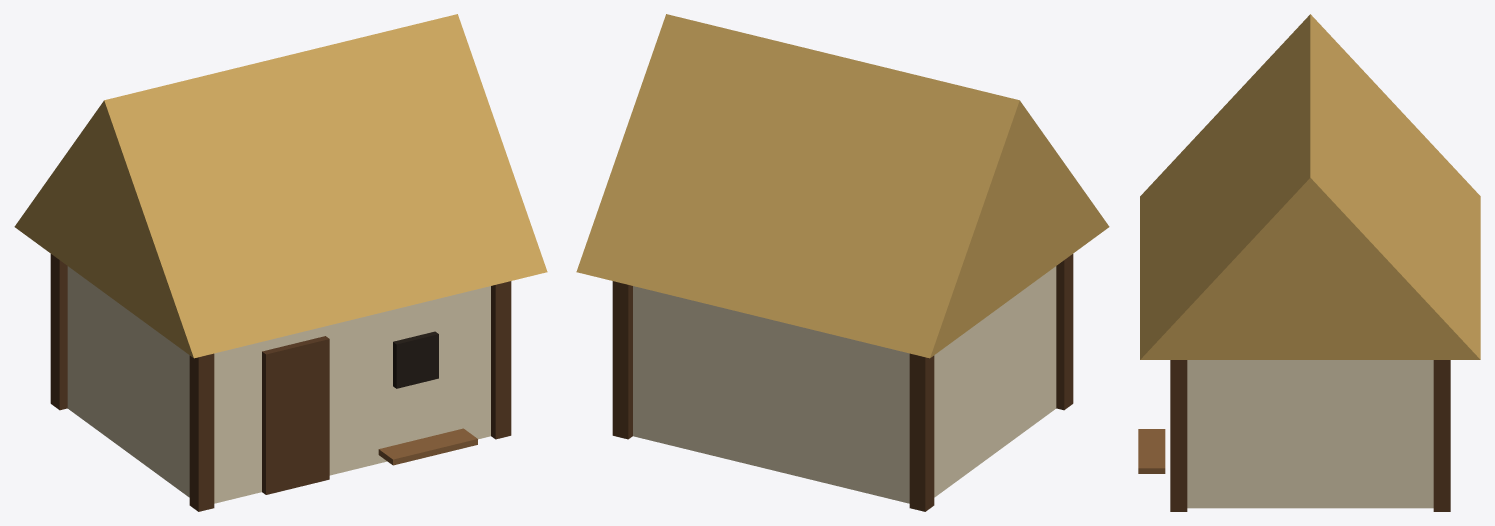
The model's file is settlement_cottage.glb.
The picture shows the model from 3 angles, left to right: view 1: azimuth 30°, elevation 25°; view 2: azimuth 150°, elevation 25°; view 3: azimuth 270°, elevation 25°; orthographic projection. The views are drawn at different scales.
Parts seen in each view (by area): view 1: settlement_cottage; view 2: settlement_cottage; view 3: settlement_cottage.
Boxes of the visible parts, x1,y1,x2,y2 form: settlement_cottage: [14, 14, 547, 511]; settlement_cottage: [576, 14, 1109, 511]; settlement_cottage: [1138, 14, 1480, 511].
Size of the model in its own units: 5 by 4.9 by 4.42.
